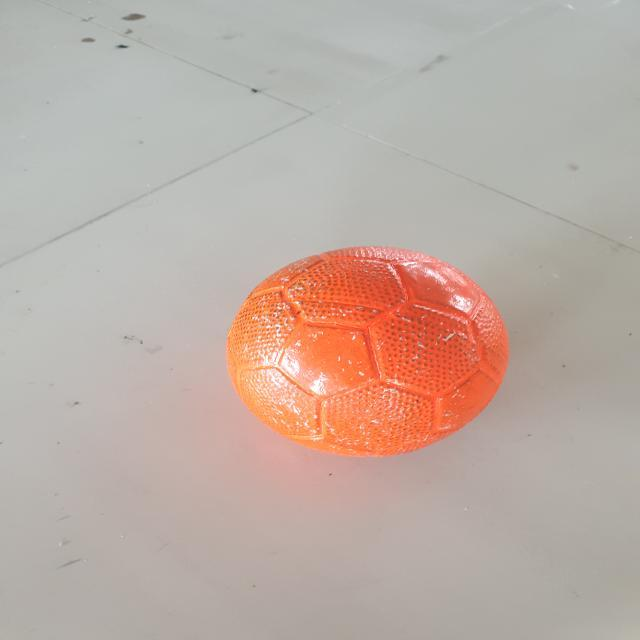bola: (217, 240, 514, 464)
